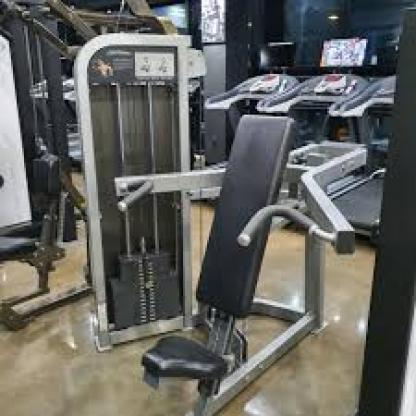shoulder press machine: (67, 27, 383, 416)
